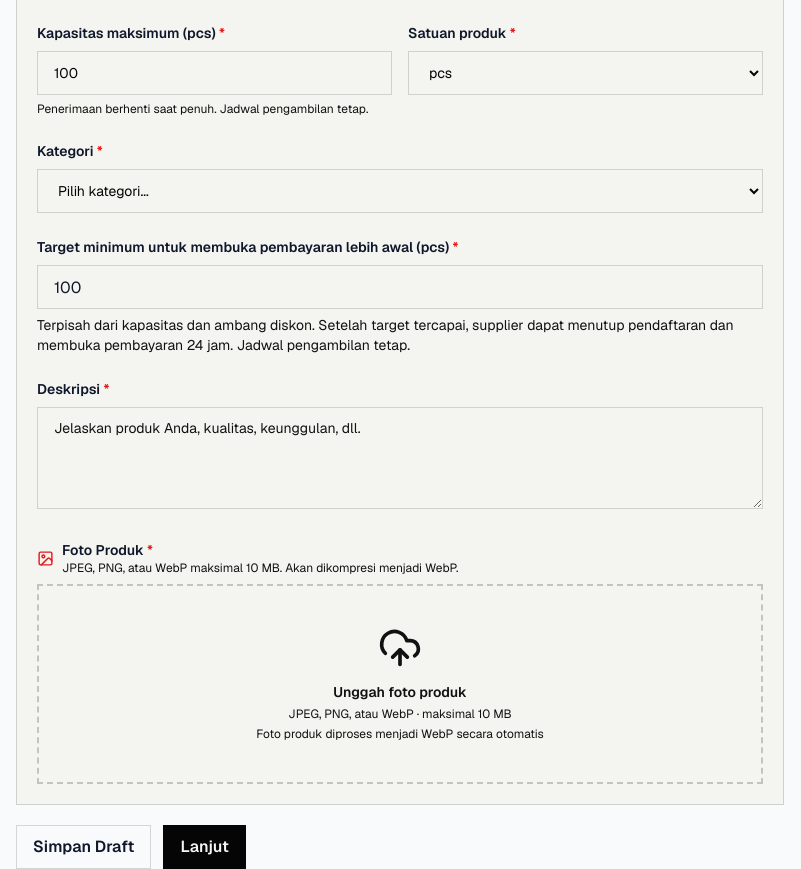
Test: guided supplier offer › offers the saved server draft when the save response is lost
(page scrolled)
Click the button "Simpan Draft" at (84, 847), box [16,825,151,868]
(page scrolled)
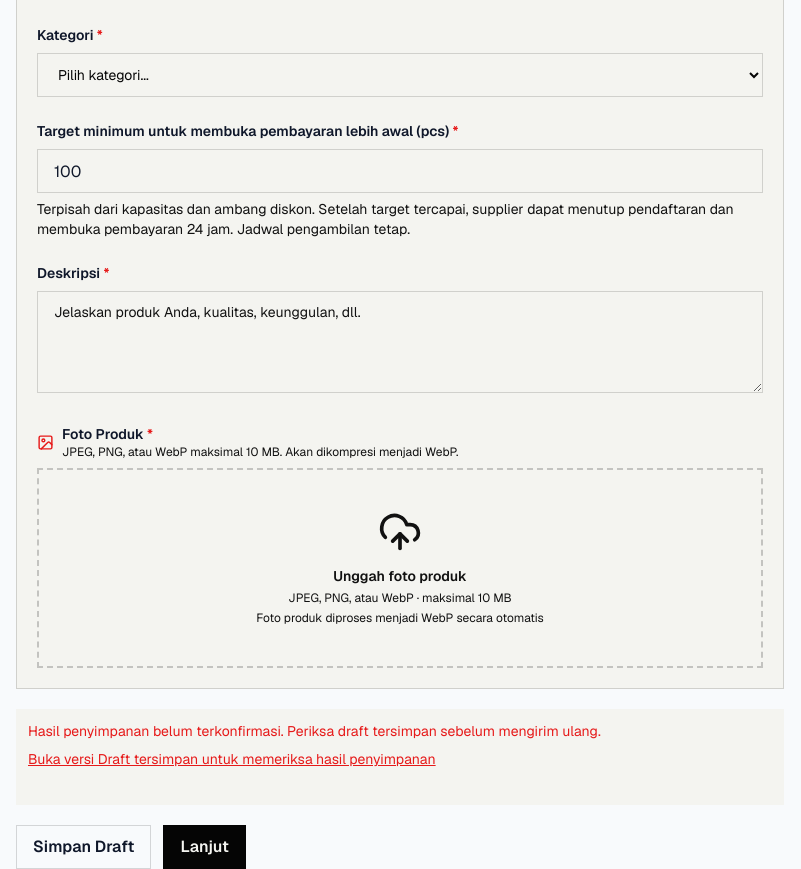
expect the message shows "Hasil penyimpanan belum terkonfirmasi": met, box [28,722,601,740]
